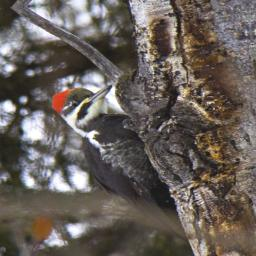Woodpecker: (45, 78, 177, 229)
